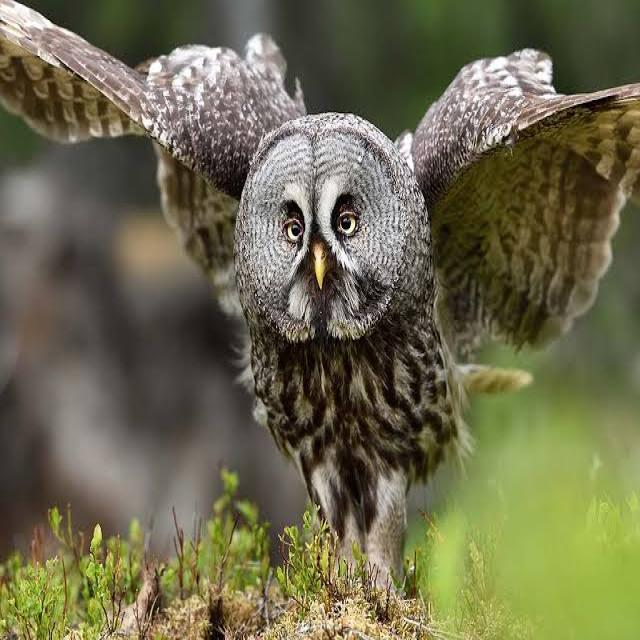great grey owl: (180, 68, 522, 600)
